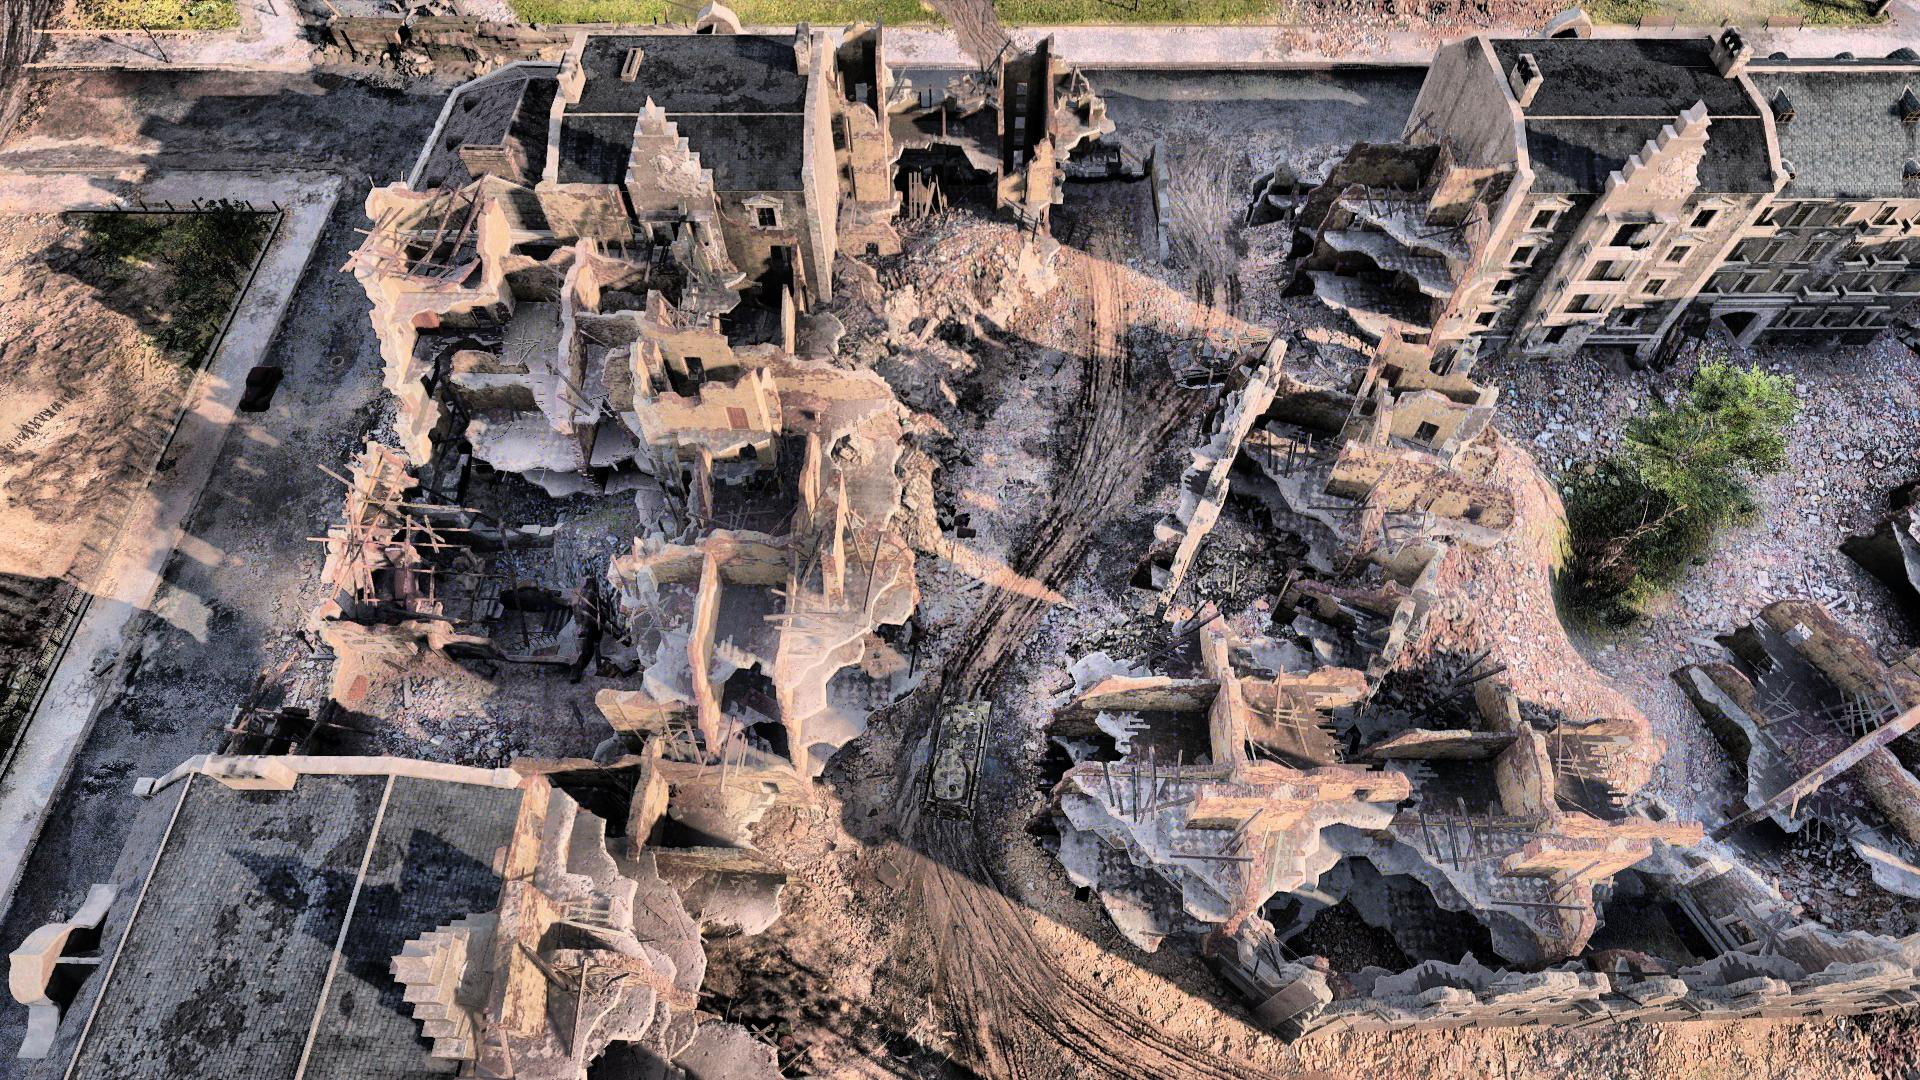military-vehicle: (918, 675, 996, 819)
